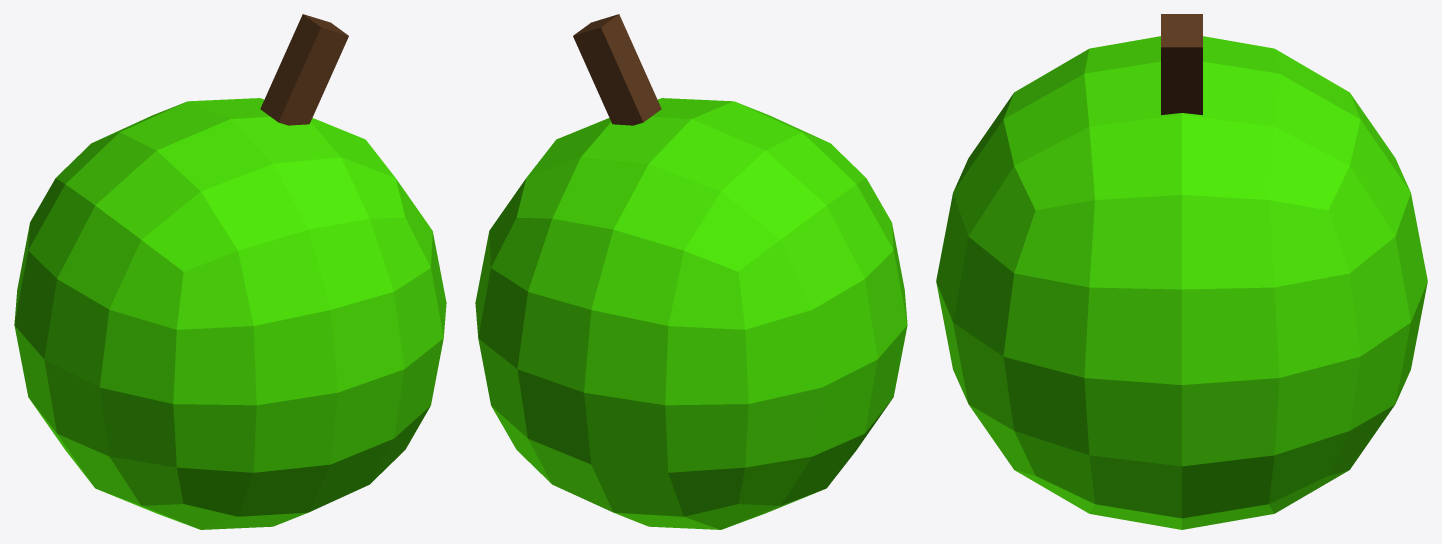
File: green_apple.glb
3 renders of one model, left to right at view 1: azimuth 30°, elevation 25°; view 2: azimuth 150°, elevation 25°; view 3: azimuth 270°, elevation 25°, orthographic. The views are drawn at different scales.
Parts seen in each view (by area): view 1: Cube.001; view 2: Cube.001; view 3: Cube.001.
Part boxes in pixels (x1,y1,x2,y2): Cube.001: (14,14,446,529); Cube.001: (475,14,907,529); Cube.001: (936,14,1427,529).
Bounding box in the file's own units: 1.68 × 2.02 × 1.68.
